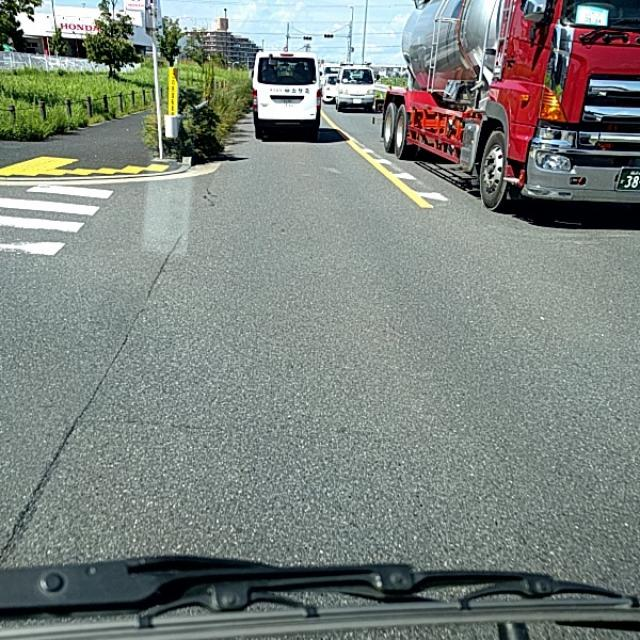pothole: (40, 388, 99, 464)
